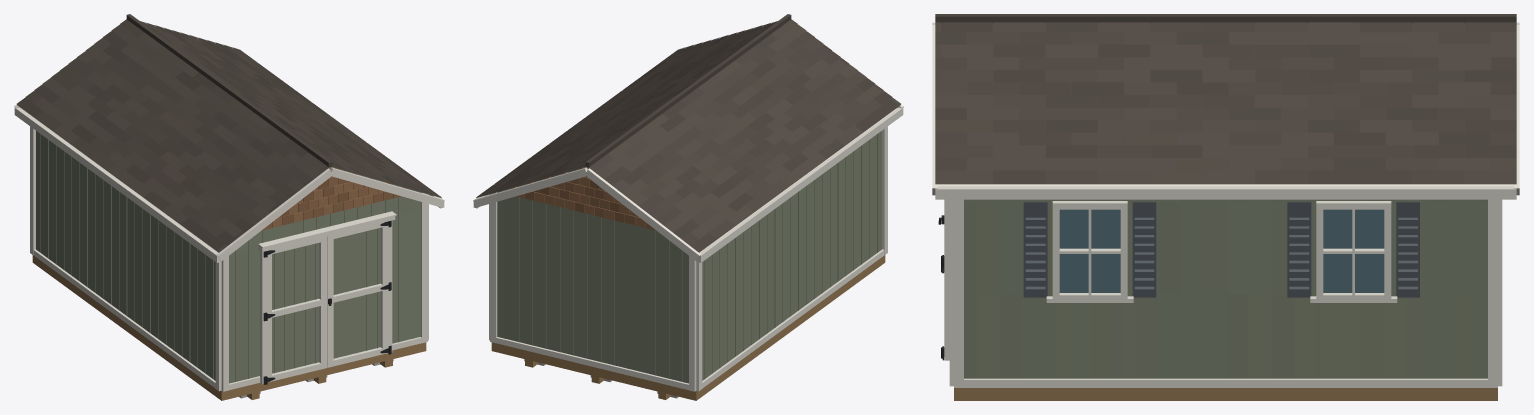
The model's file is 21-craftsman-shake-shutters.glb.
3 views of the same model, side by side, from view 1: azimuth 30°, elevation 25°; view 2: azimuth 150°, elevation 25°; view 3: azimuth 270°, elevation 25° (orthographic). The views are drawn at different scales.
Parts seen in each view (by area): view 1: Main roof, left wall, front wall double, front wall, Floor platform and skids, Staggered shake accent gables; view 2: Main roof, rear wall, left wall, Floor platform and skids, Staggered shake accent gables; view 3: Main roof, right wall, right wall window, Louvered window shutters, Floor platform and skids, front wall double, front wall, rear wall.
Part boxes in pixels (bbox=[...]): Main roof: bbox=[14, 14, 444, 262]; left wall: bbox=[30, 108, 221, 391]; front wall double: bbox=[258, 211, 396, 384]; front wall: bbox=[221, 167, 427, 391]; Floor platform and skids: bbox=[32, 255, 426, 400]; Staggered shake accent gables: bbox=[262, 167, 407, 230]; Main roof: bbox=[473, 14, 903, 262]; rear wall: bbox=[490, 167, 696, 391]; left wall: bbox=[696, 108, 887, 391]; Floor platform and skids: bbox=[491, 255, 885, 400]; Staggered shake accent gables: bbox=[510, 167, 655, 230]; Main roof: bbox=[932, 14, 1519, 199]; right wall: bbox=[954, 199, 1497, 387]; right wall window: bbox=[1046, 201, 1397, 302]; Louvered window shutters: bbox=[1023, 202, 1419, 297]; Floor platform and skids: bbox=[954, 388, 1497, 400]; front wall double: bbox=[938, 199, 949, 360]; front wall: bbox=[949, 199, 953, 386]; rear wall: bbox=[1498, 199, 1502, 386].
Bounding box in the file's own units: 3.39 × 3.23 × 5.27.
